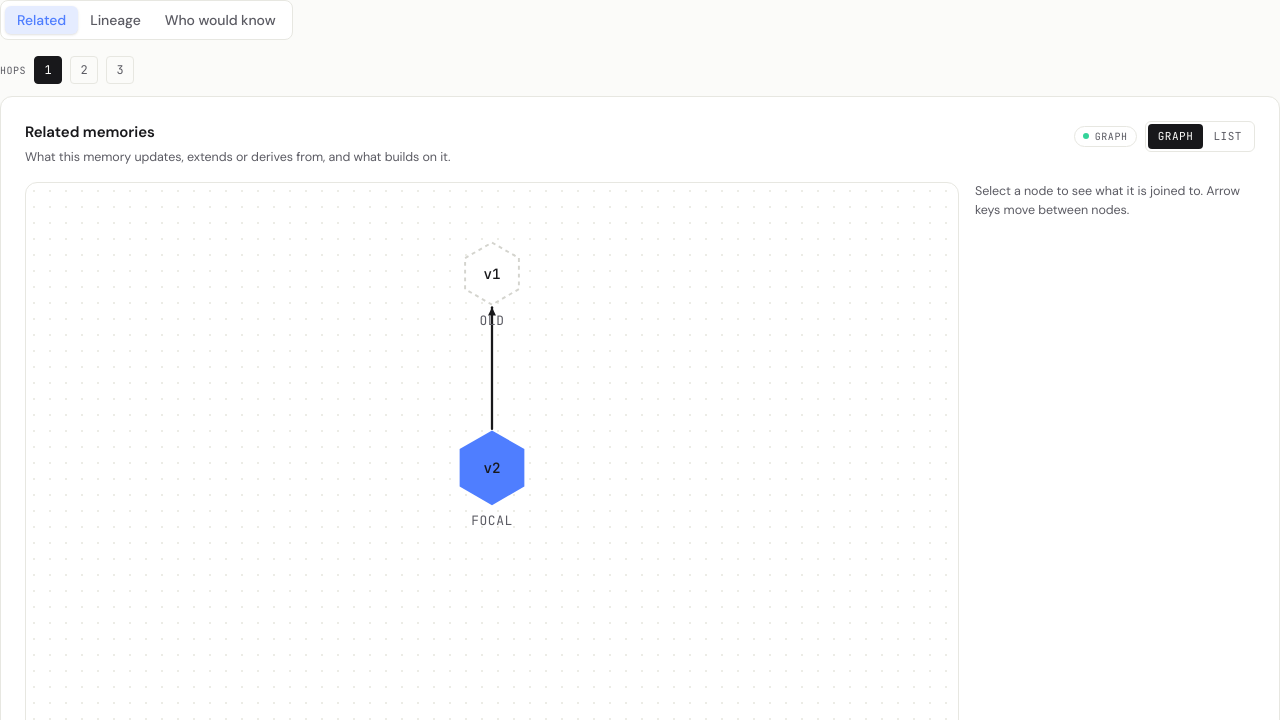
Test: MemoryConnections › a memory nobody contributed to says so, rather than showing an empty list
This screenshot has width=1280, height=720.
Press the mouse on the tab with test id "tab-owners" at (220, 20), box left=153, top=6, right=288, bottom=34
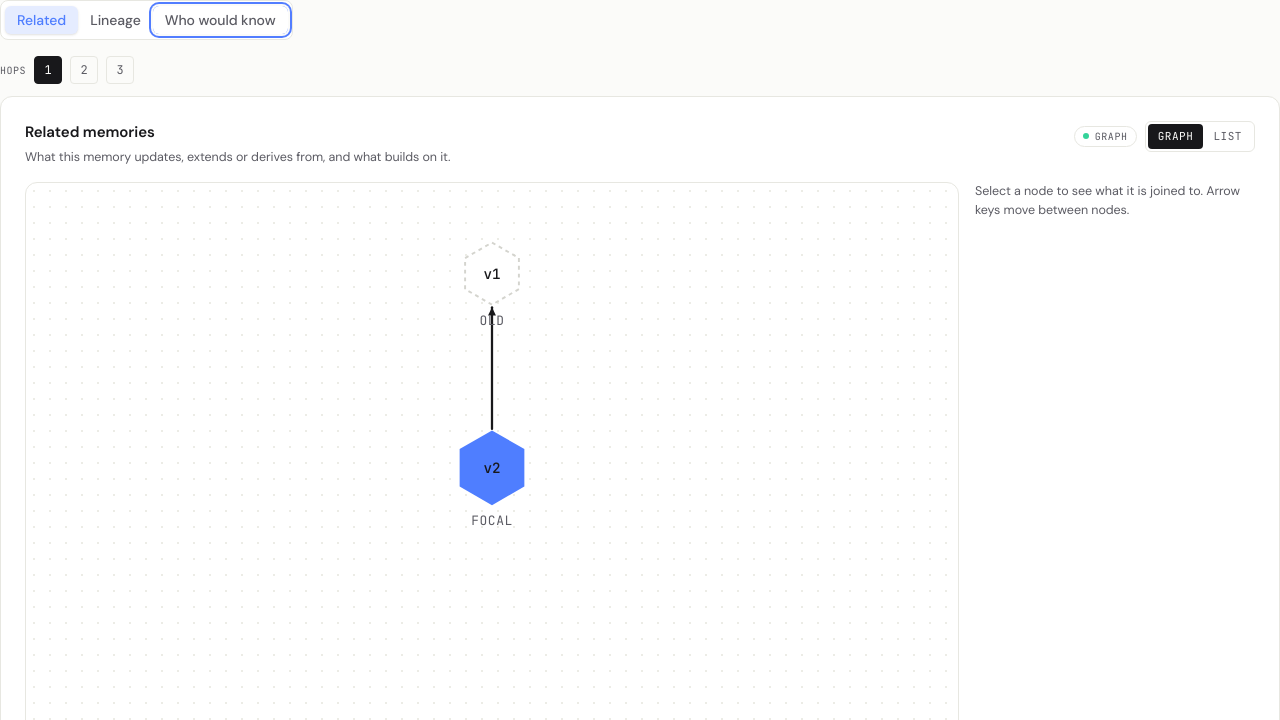
Focus the tab with test id "tab-owners" at (220, 20), box left=153, top=6, right=288, bottom=34
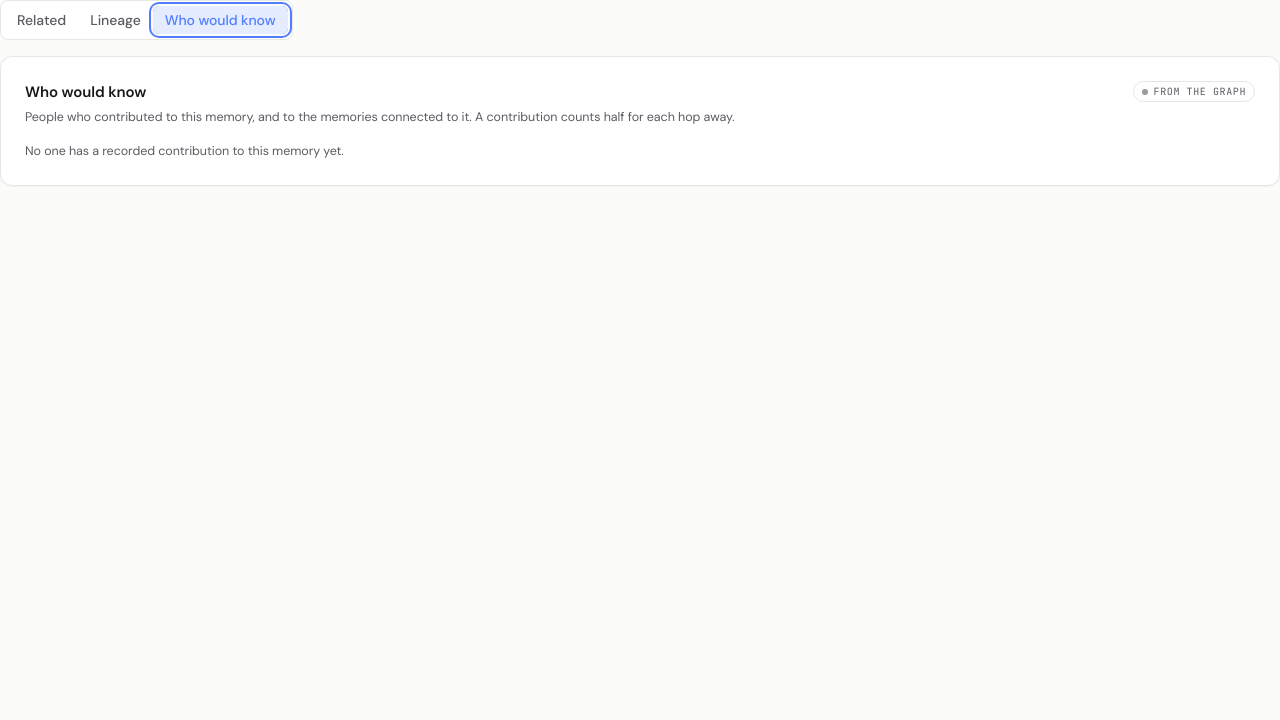
Now the text "No one has a recorded contribution to this memory yet." is shown, box left=25, top=143, right=344, bottom=159
